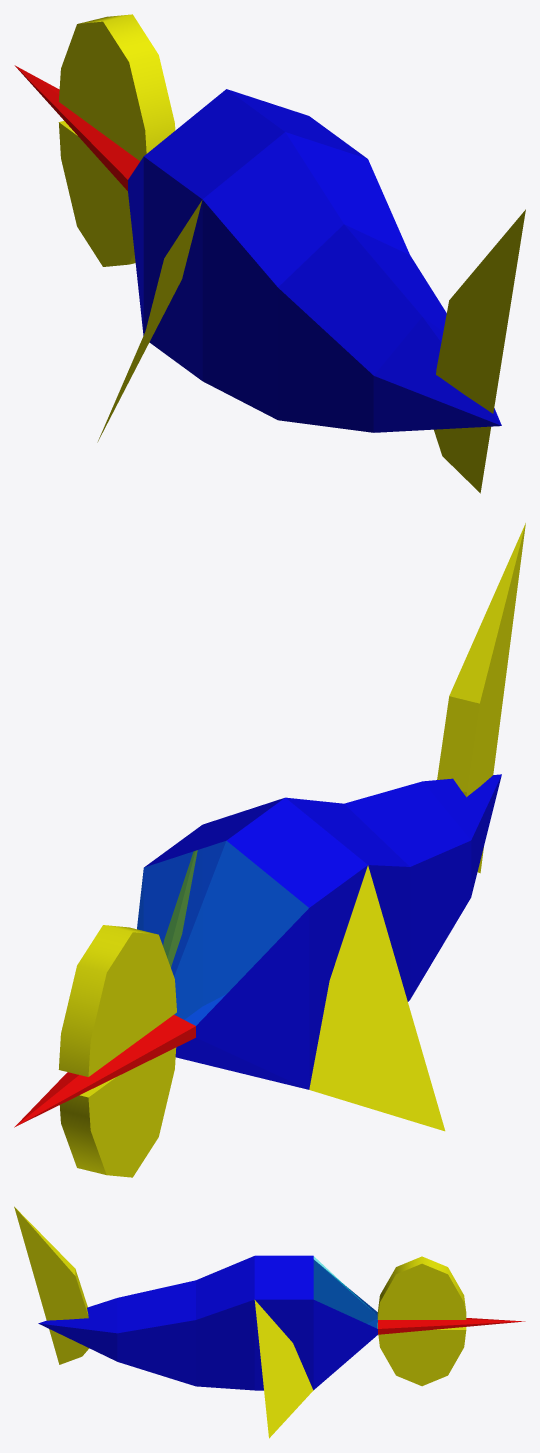
The model's file is PlayerShip-04-ChomperClassShip.fbx.
The picture shows the model from 3 angles, top to bottom: view 1: azimuth 30°, elevation 25°; view 2: azimuth 150°, elevation 25°; view 3: azimuth 270°, elevation 25°; orthographic projection. The views are drawn at different scales.
Parts seen in each view (by area): view 1: pasted__pCube1, pasted__pCylinder3, pasted__pCube2, pasted__pCylinder4; view 2: pasted__pCube1, pasted__pCylinder3, pasted__pCube2, pasted__pCylinder4; view 3: pasted__pCube1, pasted__pCube2, pasted__pCylinder3, pasted__pCylinder4.
Part boxes in pixels (<box>): pasted__pCube1: <box>14,65,501,442</box>; pasted__pCylinder3: <box>59,14,175,161</box>; pasted__pCube2: <box>434,209,525,493</box>; pasted__pCylinder4: <box>58,121,135,266</box>; pasted__pCube1: <box>14,774,501,1131</box>; pasted__pCylinder3: <box>58,925,176,1076</box>; pasted__pCube2: <box>437,523,525,873</box>; pasted__pCylinder4: <box>59,1047,176,1177</box>; pasted__pCube1: <box>38,1255,525,1438</box>; pasted__pCube2: <box>14,1206,88,1364</box>; pasted__pCylinder3: <box>377,1256,466,1319</box>; pasted__pCylinder4: <box>377,1323,466,1386</box>.
Bounding box in the file's own units: 6.22 × 6.47 × 15.8.
